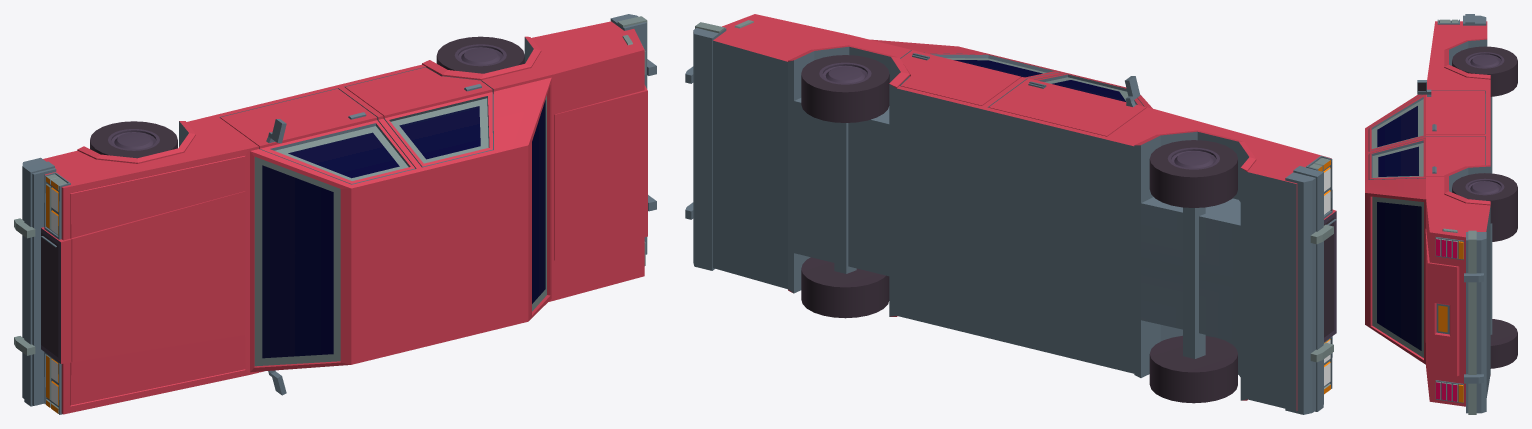
The model's file is 170_car_sedan.gltf.
3 renders of one model, left to right at view 1: azimuth 30°, elevation 25°; view 2: azimuth 150°, elevation 25°; view 3: azimuth 270°, elevation 25°, orthographic. The views are drawn at different scales.
Visible parts, largest first — view 1: car_sedan; view 2: car_sedan; view 3: car_sedan.
Part boxes in pixels (left/top/right/bottom): car_sedan: left=14, top=14, right=656, bottom=414; car_sedan: left=685, top=14, right=1336, bottom=414; car_sedan: left=1365, top=14, right=1517, bottom=414.
Size of the model in its own units: 5.39 by 2.22 by 1.51.
1 material, 1 textured.
